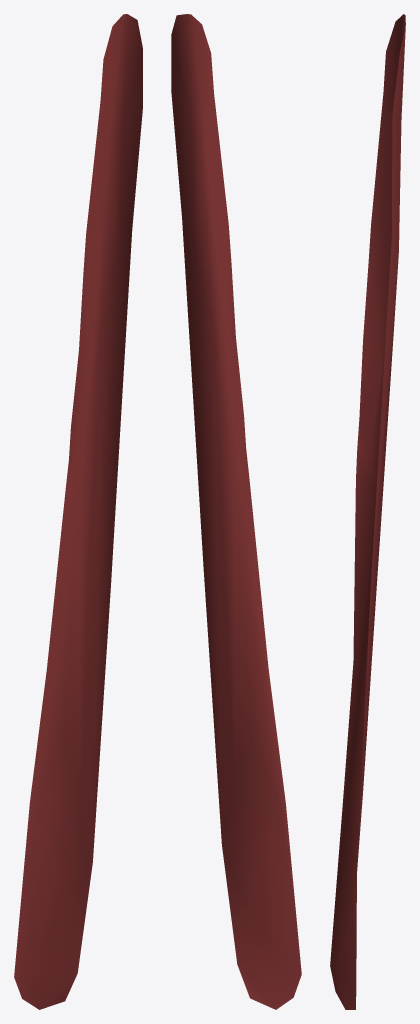
File: fibularis-brevis-muscle-ol.glb
The picture shows the model from 3 angles, left to right: view 1: azimuth 30°, elevation 25°; view 2: azimuth 210°, elevation 25°; view 3: azimuth 330°, elevation 25°; orthographic projection. The views are drawn at different scales.
Parts seen in each view (by area): view 1: Fibularis brevis muscle.ol; view 2: Fibularis brevis muscle.ol; view 3: Fibularis brevis muscle.ol.
Part boxes in pixels (bbox=[...]): Fibularis brevis muscle.ol: bbox=[14, 14, 142, 1009]; Fibularis brevis muscle.ol: bbox=[171, 14, 301, 1009]; Fibularis brevis muscle.ol: bbox=[330, 14, 405, 1009].
Size of the model in its own units: 0.017 by 0.1634 by 0.0103.
